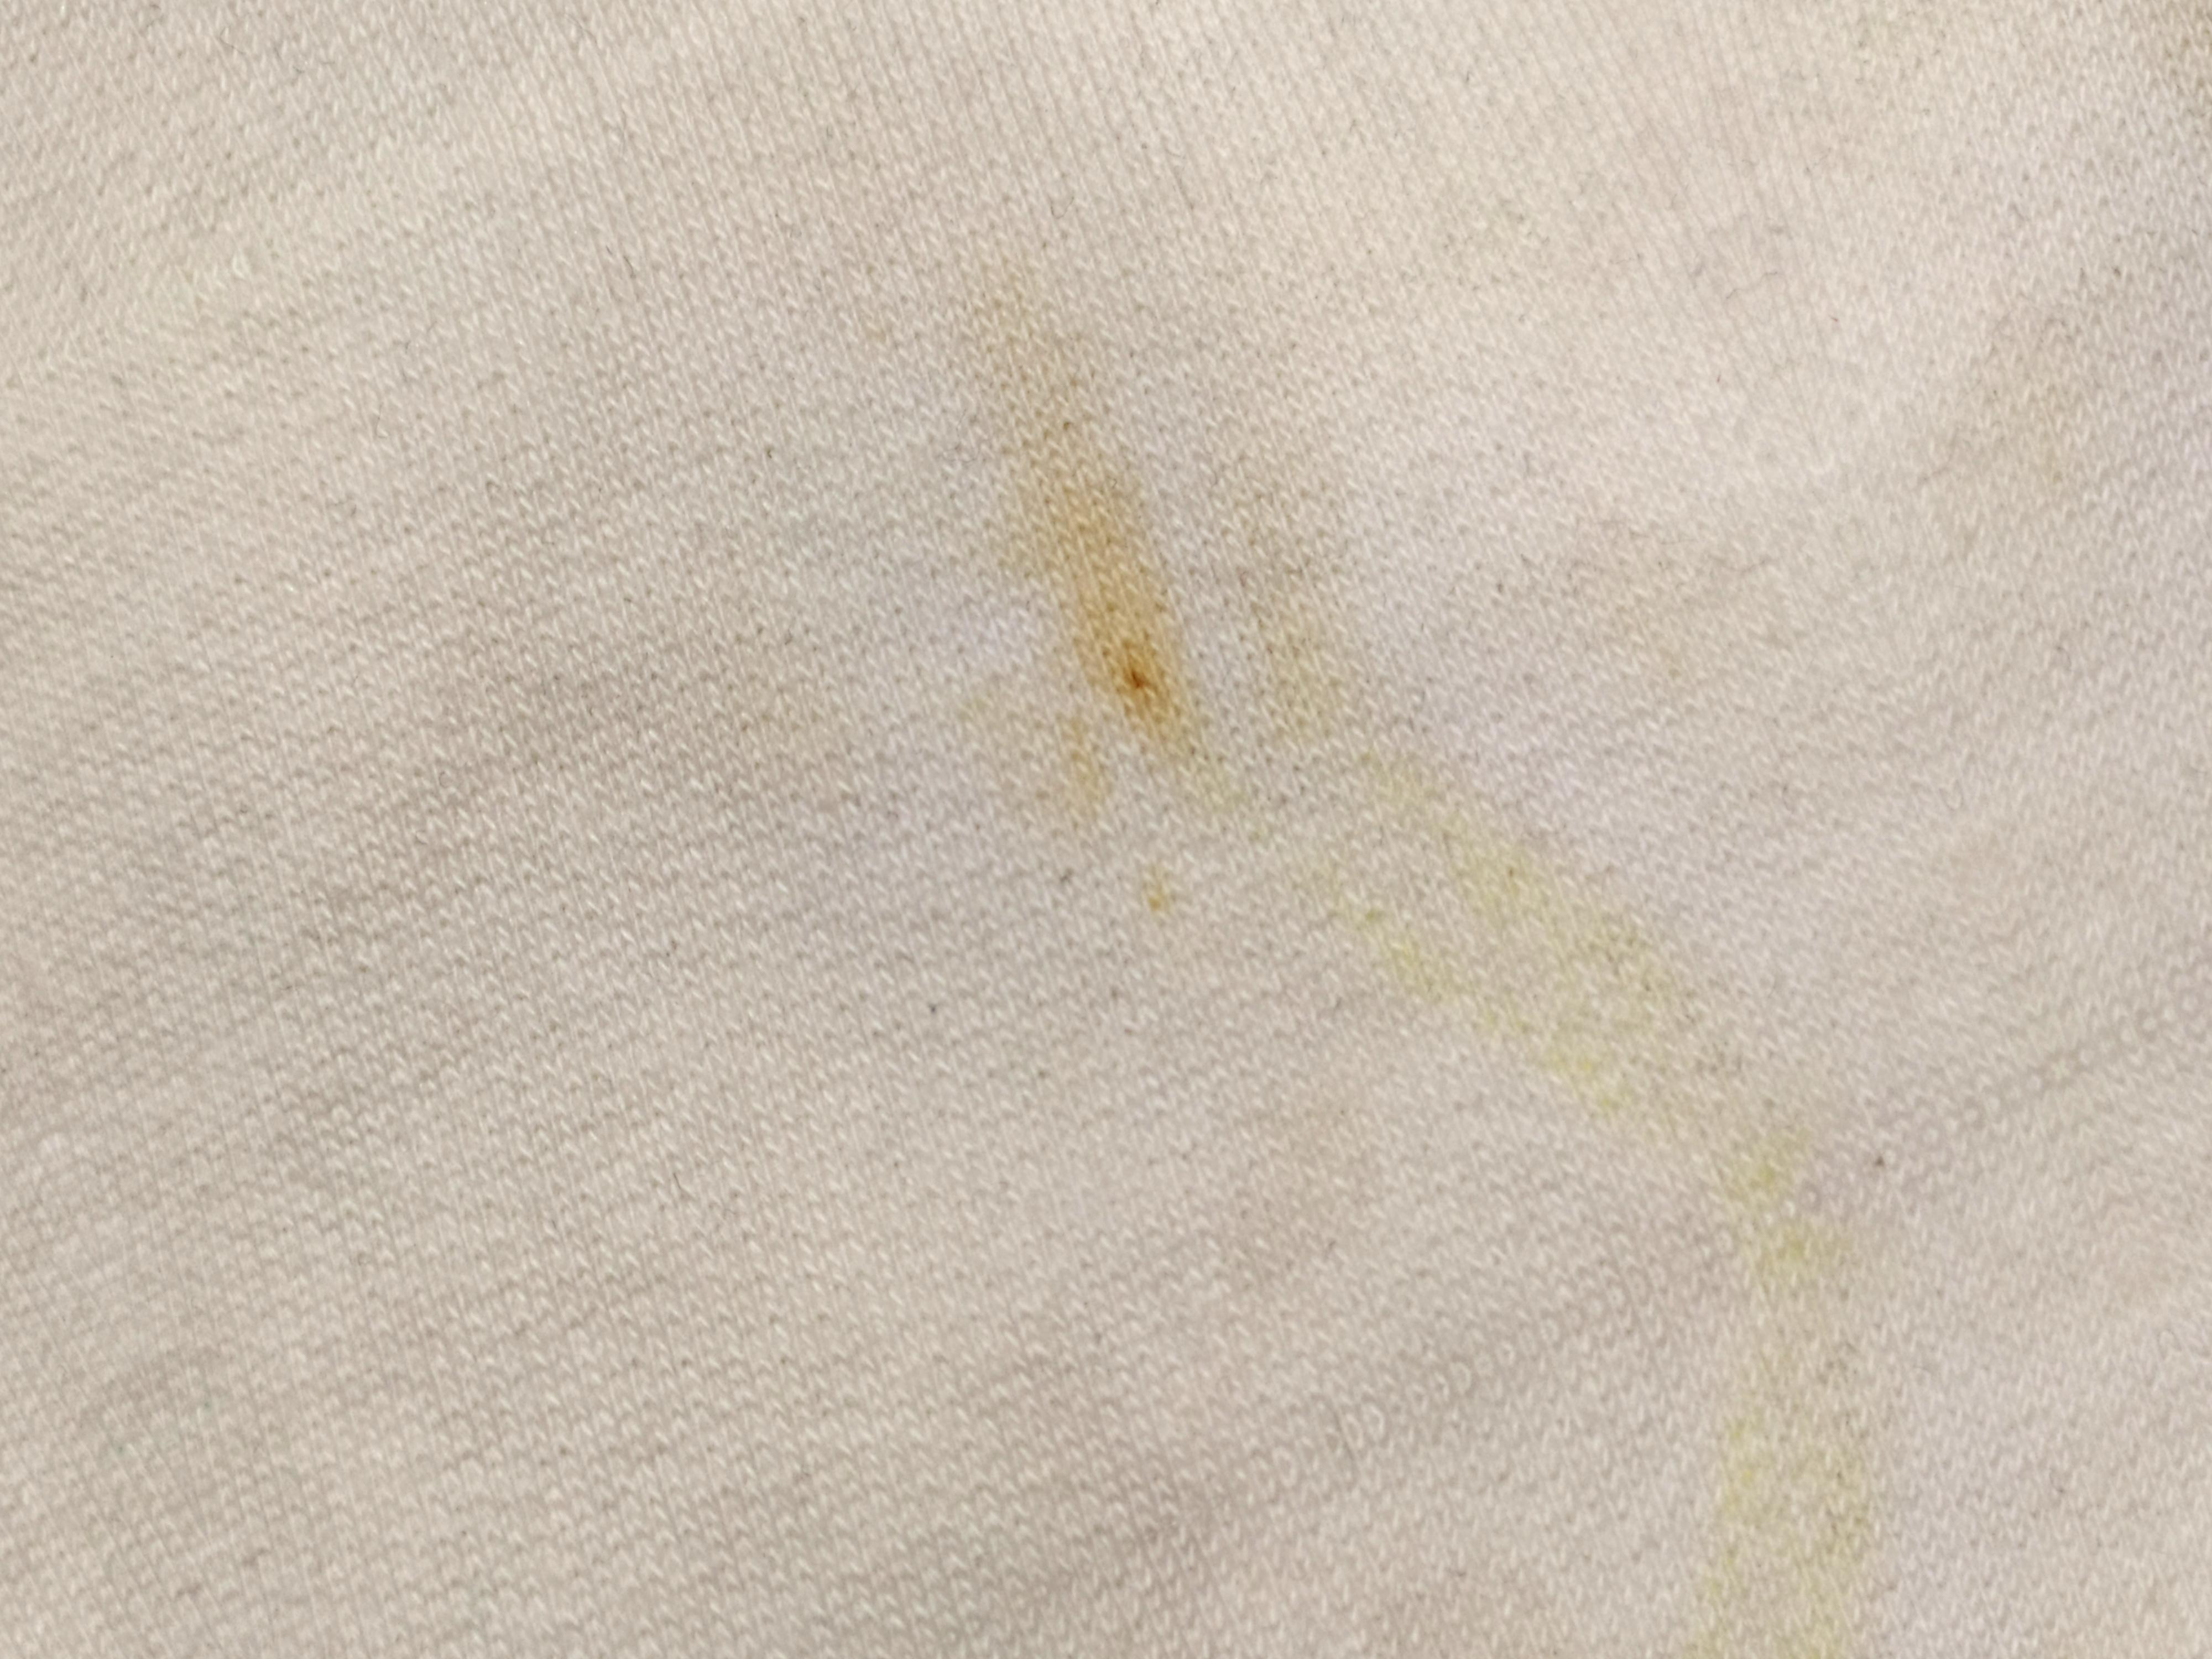stain: (1001, 385, 1207, 770)
